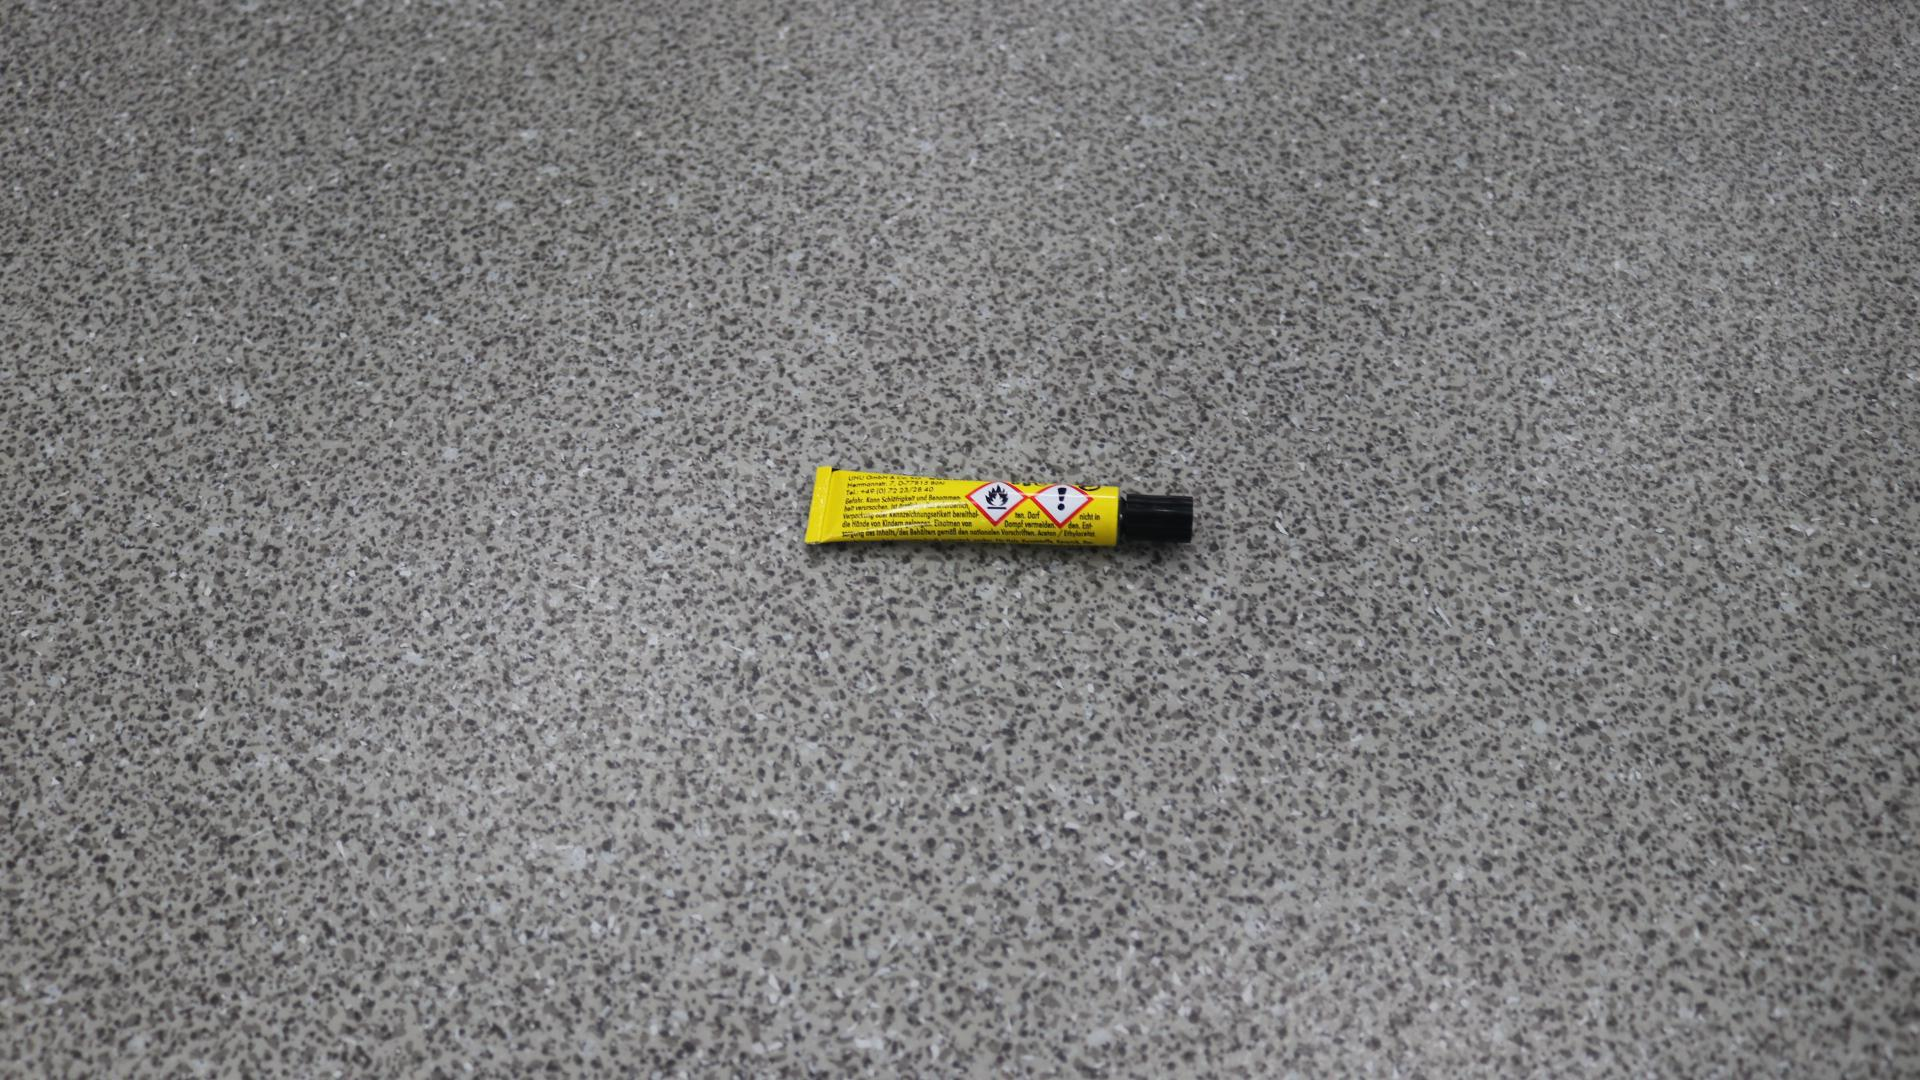Head: (1154, 509, 1165, 521)
Tail: (814, 500, 823, 509)
Tube: (805, 465, 1195, 548)
